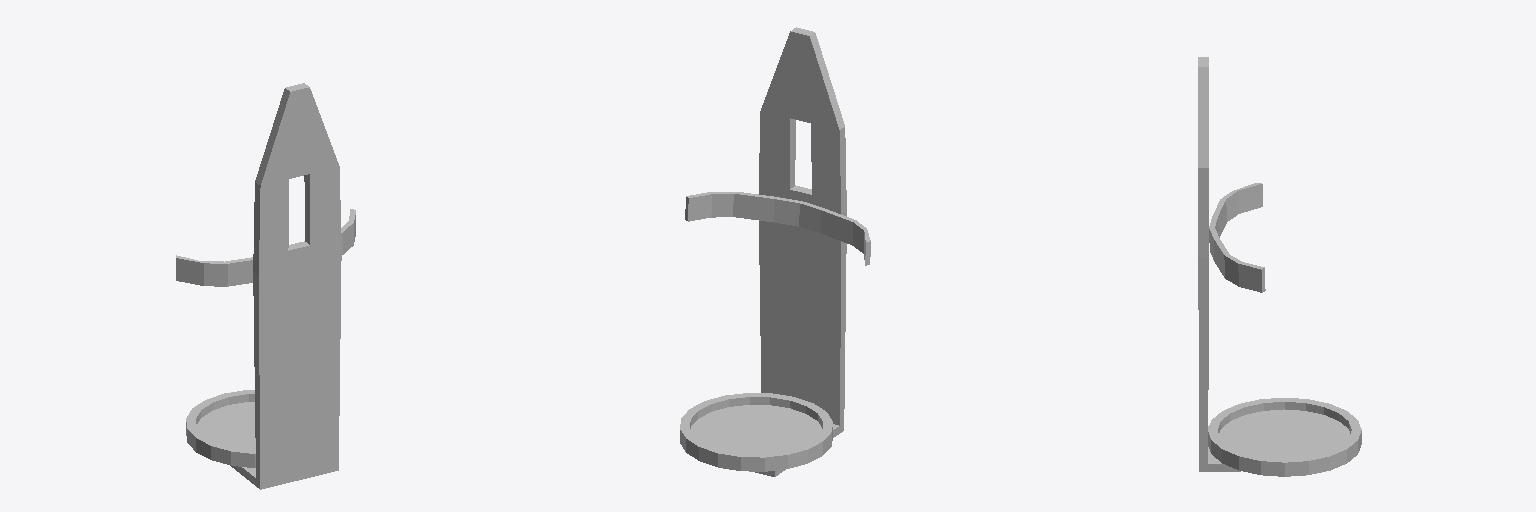
File: wall_mount.obj
3 views of the same model, side by side, from view 1: azimuth 30°, elevation 25°; view 2: azimuth 150°, elevation 25°; view 3: azimuth 270°, elevation 25° (orthographic).
Parts seen in each view (by area): view 1: pCylinder2; view 2: pCylinder2; view 3: pCylinder2.
Part boxes in pixels (left/top/right/bottom): pCylinder2: left=176, top=83, right=355, bottom=489; pCylinder2: left=680, top=27, right=870, bottom=476; pCylinder2: left=1198, top=57, right=1361, bottom=476.
Bounding box in the file's own units: 45.38 × 92.66 × 35.12.